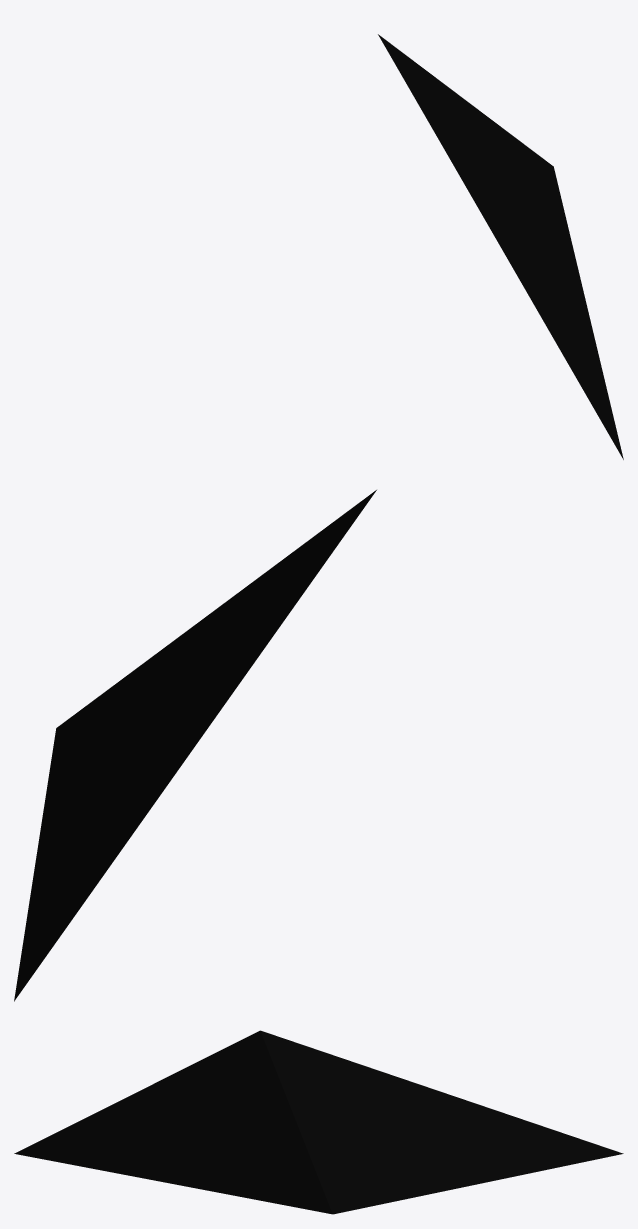
The picture shows the model from 3 angles, top to bottom: view 1: azimuth 30°, elevation 25°; view 2: azimuth 150°, elevation 25°; view 3: azimuth 270°, elevation 25°; orthographic projection. The views are drawn at different scales.
Size of the model in its own units: 0.000725 by 0.000687 by 0.00308.
1 material, 1 textured.
